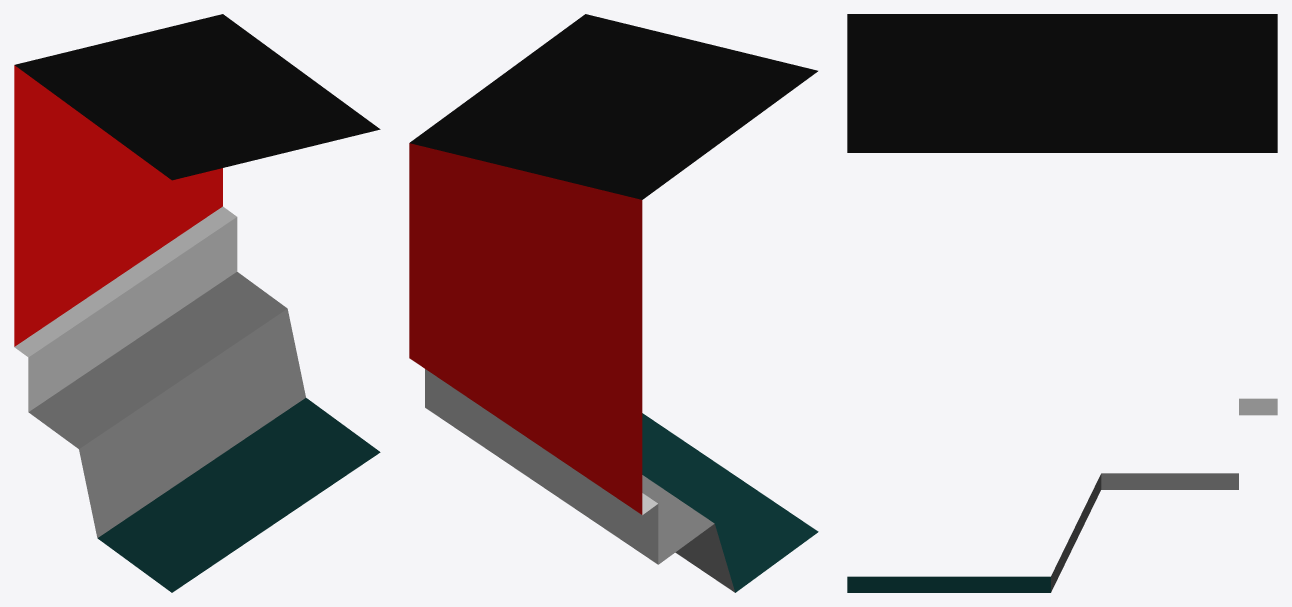
File: recta_rampa.fbx
The picture shows the model from 3 angles, left to right: view 1: azimuth 30°, elevation 25°; view 2: azimuth 150°, elevation 25°; view 3: azimuth 270°, elevation 25°; orthographic projection. The views are drawn at different scales.
Parts seen in each view (by area): view 1: Pieza_Recta_Rampa; view 2: Pieza_Recta_Rampa; view 3: Pieza_Recta_Rampa.
Part boxes in pixels (x1=…): Pieza_Recta_Rampa: x1=14, y1=14, x2=380, y2=592; Pieza_Recta_Rampa: x1=409, y1=14, x2=818, y2=592; Pieza_Recta_Rampa: x1=847, y1=14, x2=1277, y2=592.
Size of the model in its own units: 20 by 37.77 by 26.19.
